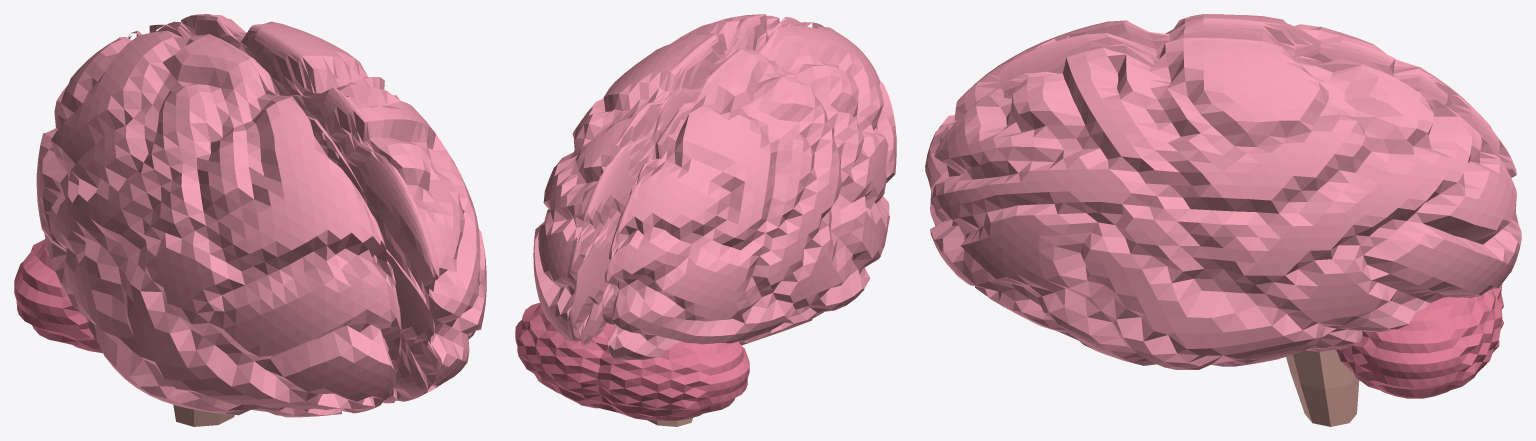
File: cerebro.glb
The picture shows the model from 3 angles, left to right: view 1: azimuth 30°, elevation 25°; view 2: azimuth 150°, elevation 25°; view 3: azimuth 270°, elevation 25°; orthographic projection. The views are drawn at different scales.
Parts seen in each view (by area): view 1: Hemisferio_Izq, Hemisferio_Der, Cerebelo, Tallo; view 2: Hemisferio_Izq, Hemisferio_Der, Cerebelo; view 3: Hemisferio_Der, Hemisferio_Izq, Cerebelo, Tallo.
Boxes of the visible parts, x1,y1,x2,y2 form: Hemisferio_Izq: (36, 24, 401, 417); Hemisferio_Der: (157, 14, 486, 403); Cerebelo: (14, 239, 102, 353); Tallo: (173, 405, 234, 426); Hemisferio_Izq: (602, 22, 896, 360); Hemisferio_Der: (533, 14, 801, 349); Cerebelo: (515, 302, 749, 420); Hemisferio_Der: (930, 37, 1521, 369); Hemisferio_Izq: (925, 14, 1516, 225); Cerebelo: (1335, 284, 1503, 398); Tallo: (1286, 350, 1359, 426).
Size of the model in its own units: 0.9058 by 1.11 by 1.56.
